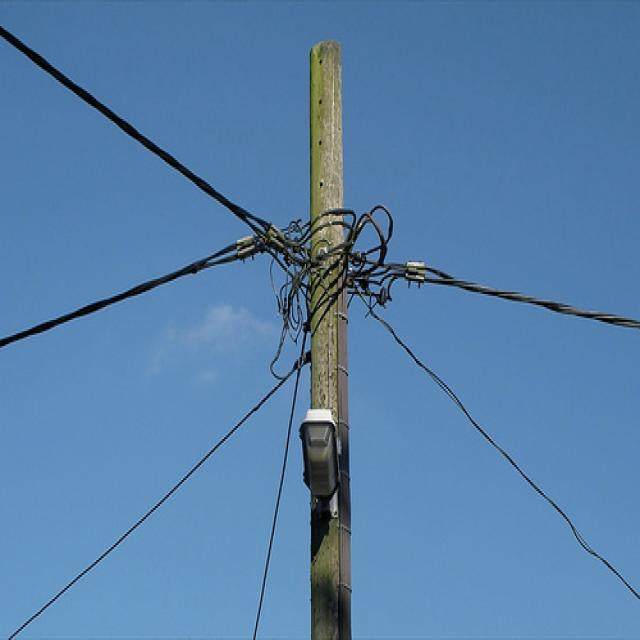pole: (300, 41, 355, 640)
wire: (4, 363, 302, 640), (361, 307, 640, 597), (0, 27, 277, 237), (0, 238, 259, 346), (387, 262, 640, 333), (251, 318, 305, 640)
